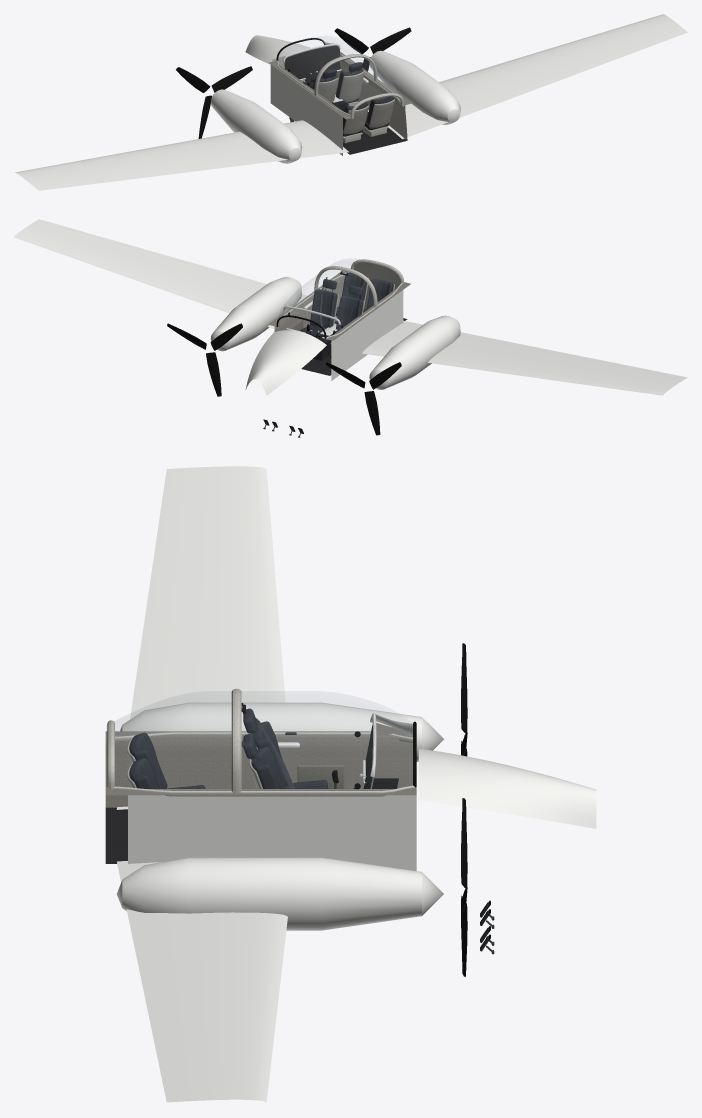
File: da42-cockpit.glb
3 renders of one model, top to bottom at view 1: azimuth 30°, elevation 25°; view 2: azimuth 150°, elevation 25°; view 3: azimuth 270°, elevation 25°, orthographic. The views are drawn at different scales.
Parts seen in each view (by area): view 1: exterior, shell, panel_face, glass; view 2: exterior, shell, glass; view 3: exterior, shell, glass, glass_side.
Part boxes in pixels (box(x1,y1,x2,y2)): exterior: box(15, 14, 687, 190); shell: box(269, 38, 410, 154); panel_face: box(284, 46, 340, 79); glass: box(298, 36, 361, 55); exterior: box(14, 219, 687, 435); shell: box(268, 259, 410, 375); glass: box(279, 274, 318, 315); exterior: box(116, 466, 596, 1102); shell: box(105, 688, 416, 863); glass: box(241, 691, 412, 737); glass_side: box(114, 691, 231, 736).
Size of the model in its own units: 13.5 by 2.35 by 4.42.
27 materials, 14 textured.
